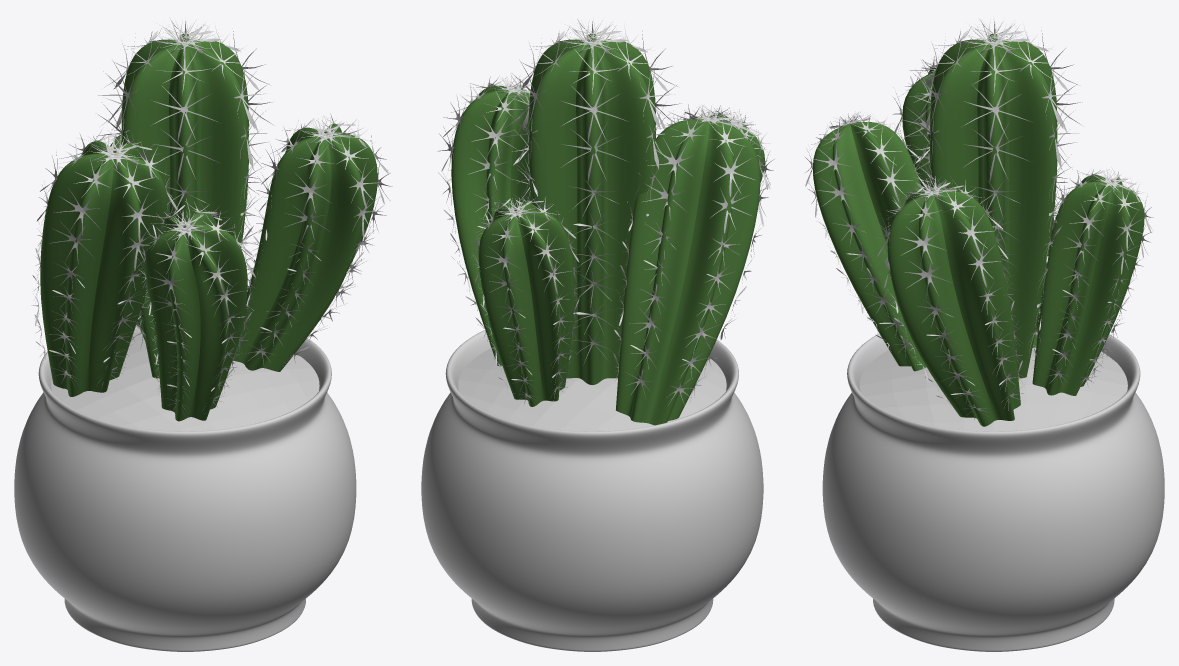
The model's file is cactus.glb.
3 views of the same model, side by side, from view 1: azimuth 30°, elevation 25°; view 2: azimuth 150°, elevation 25°; view 3: azimuth 270°, elevation 25° (orthographic).
Visible parts, largest first — view 1: node-0; view 2: node-0; view 3: node-0.
Part boxes in pixels (<box>): node-0: <box>14,15,392,651</box>; node-0: <box>421,17,774,651</box>; node-0: <box>805,16,1164,651</box>.
Bounding box in the file's own units: 1.32 × 2.25 × 1.27.
